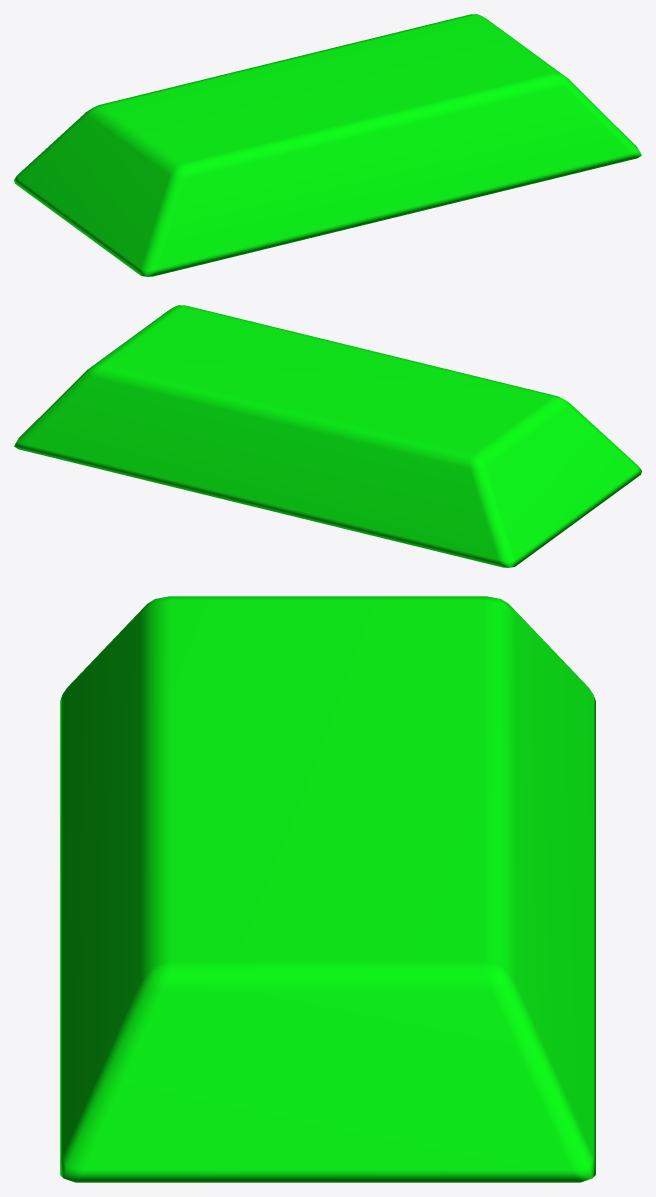
File: Treasure_GoldBar.fbx
3 renders of one model, top to bottom at view 1: azimuth 30°, elevation 25°; view 2: azimuth 150°, elevation 25°; view 3: azimuth 270°, elevation 25°, orthographic. The views are drawn at different scales.
Parts seen in each view (by area): view 1: GoldBar; view 2: GoldBar; view 3: GoldBar.
Boxes of the visible parts, box(x1,y1,x2,y2) form: GoldBar: box(14, 14, 641, 276); GoldBar: box(14, 305, 641, 567); GoldBar: box(60, 596, 595, 1182).
Size of the model in its own units: 205 by 31.63 by 94.94.
